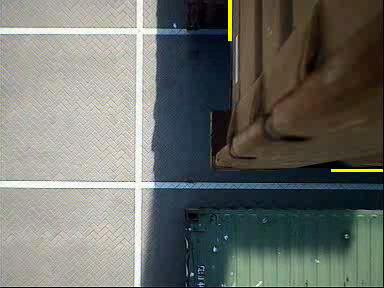groundmarker_2: (150, 32, 190, 58), (151, 162, 191, 188)
